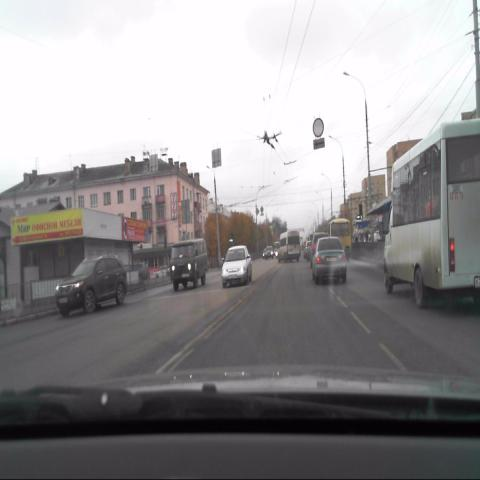3_2: (312, 118, 324, 138)
